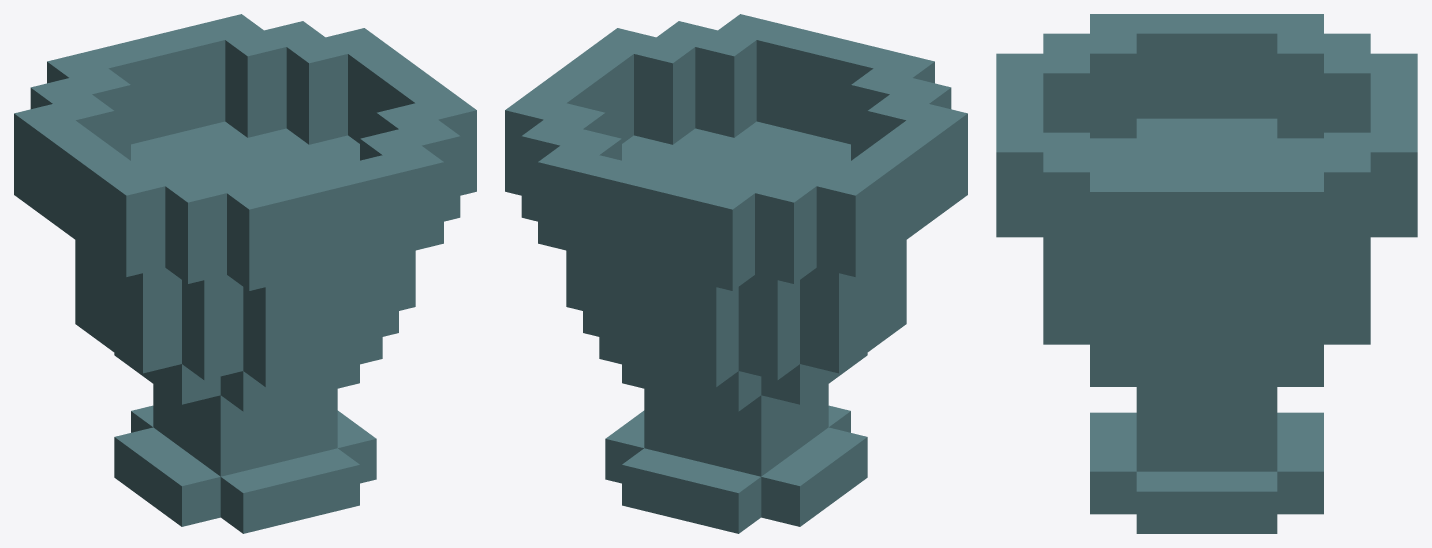
The model's file is fbCup.fbx.
3 views of the same model, side by side, from view 1: azimuth 30°, elevation 25°; view 2: azimuth 150°, elevation 25°; view 3: azimuth 270°, elevation 25° (orthographic). The views are drawn at different scales.
Visible parts, largest first — view 1: fbBrick_01_E; view 2: fbBrick_01_E; view 3: fbBrick_01_E.
Part boxes in pixels (x1,y1,x2,y2): fbBrick_01_E: (14,14,476,533); fbBrick_01_E: (505,14,967,533); fbBrick_01_E: (996,14,1417,533).
Size of the model in its own units: 90 by 90 by 90.
Materials: 1 (1 with a texture image).
